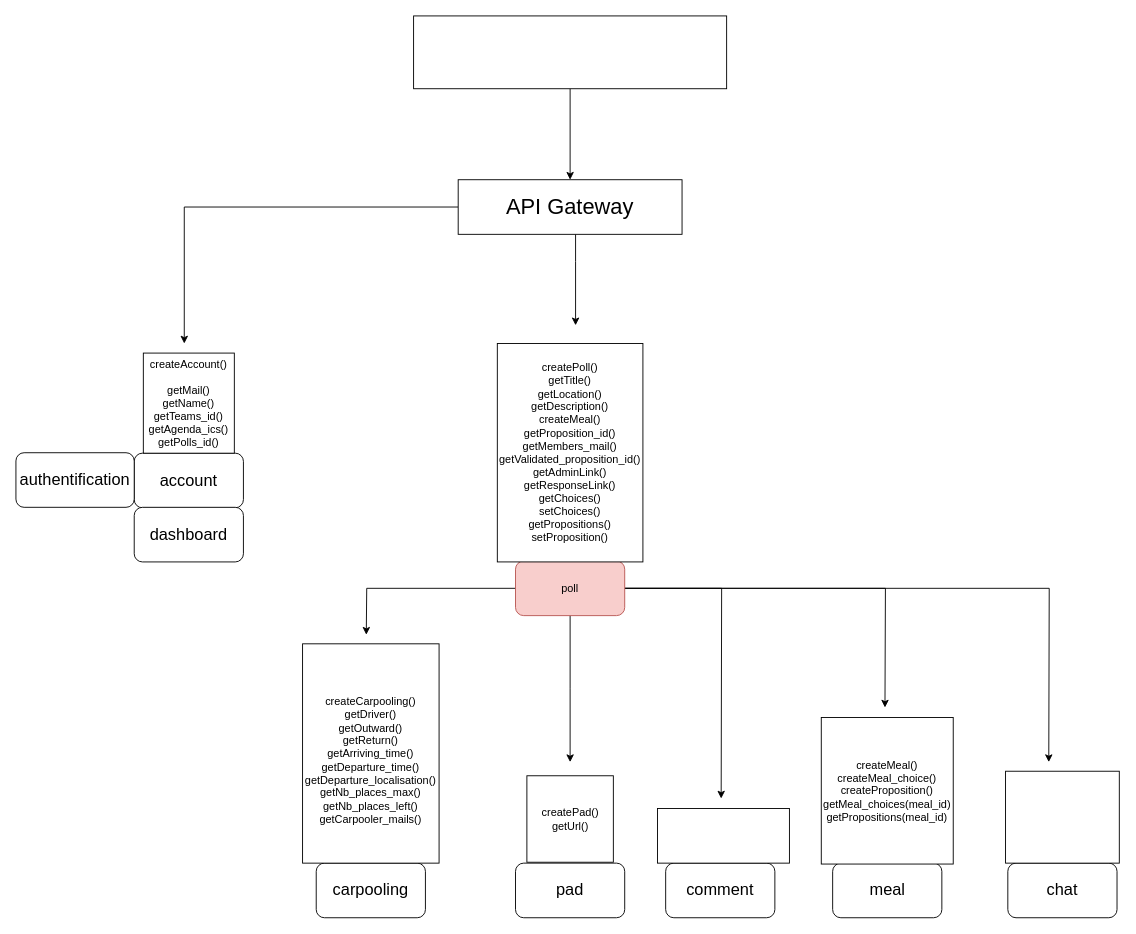
Image size: 1136x934. Some labels were removed from this diagram. Here are the shapes that lost their labels. From the top down, the centre of each, then its label:
point (570, 52): UI
point (723, 835): createComment(...) getAuthor_mail(poll_id) getContent(poll_id) getDate(poll_id)
point (1062, 816): createChat(poll_id) getUrl()
